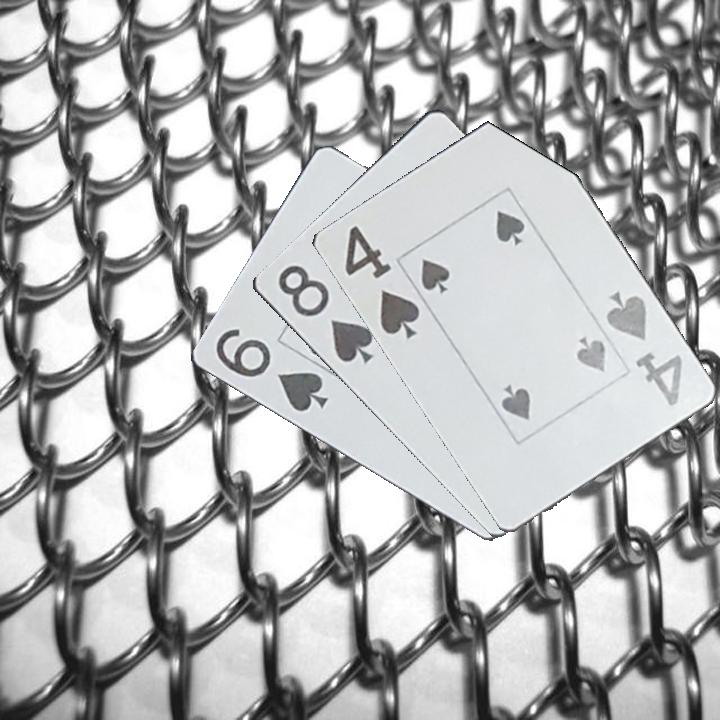4s: (340, 221, 423, 346), (601, 289, 686, 410)
6s: (211, 325, 331, 417)
8s: (273, 261, 376, 367)
